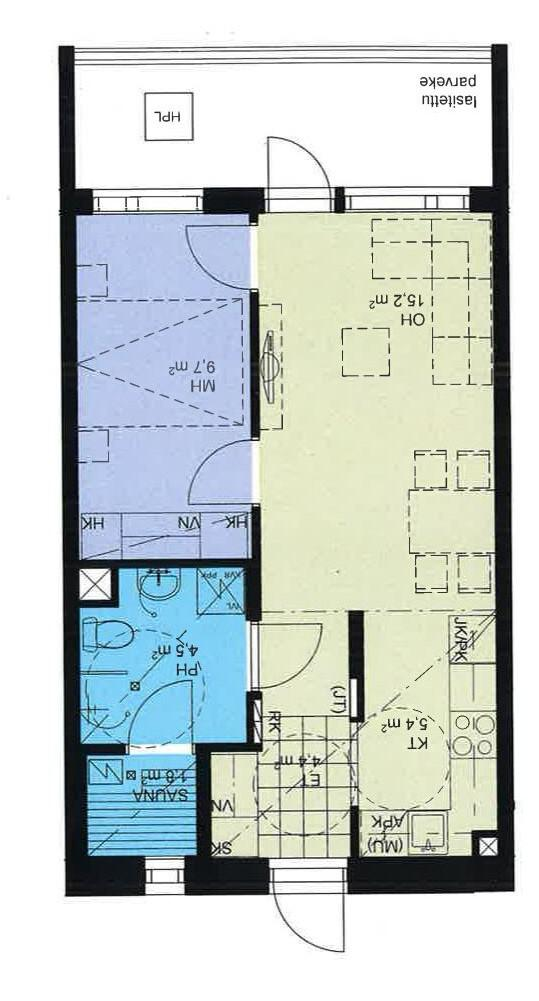bathroom: (77, 566, 250, 742)
door: (264, 846, 353, 959), (258, 132, 335, 219)
perimeter: (61, 188, 509, 895)
window: (82, 181, 208, 223), (338, 182, 477, 219), (136, 849, 192, 906)
